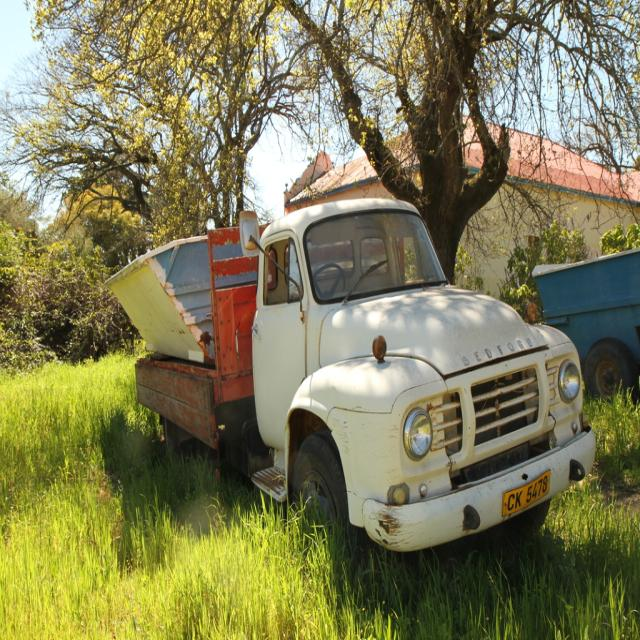car: (115, 186, 593, 572)
